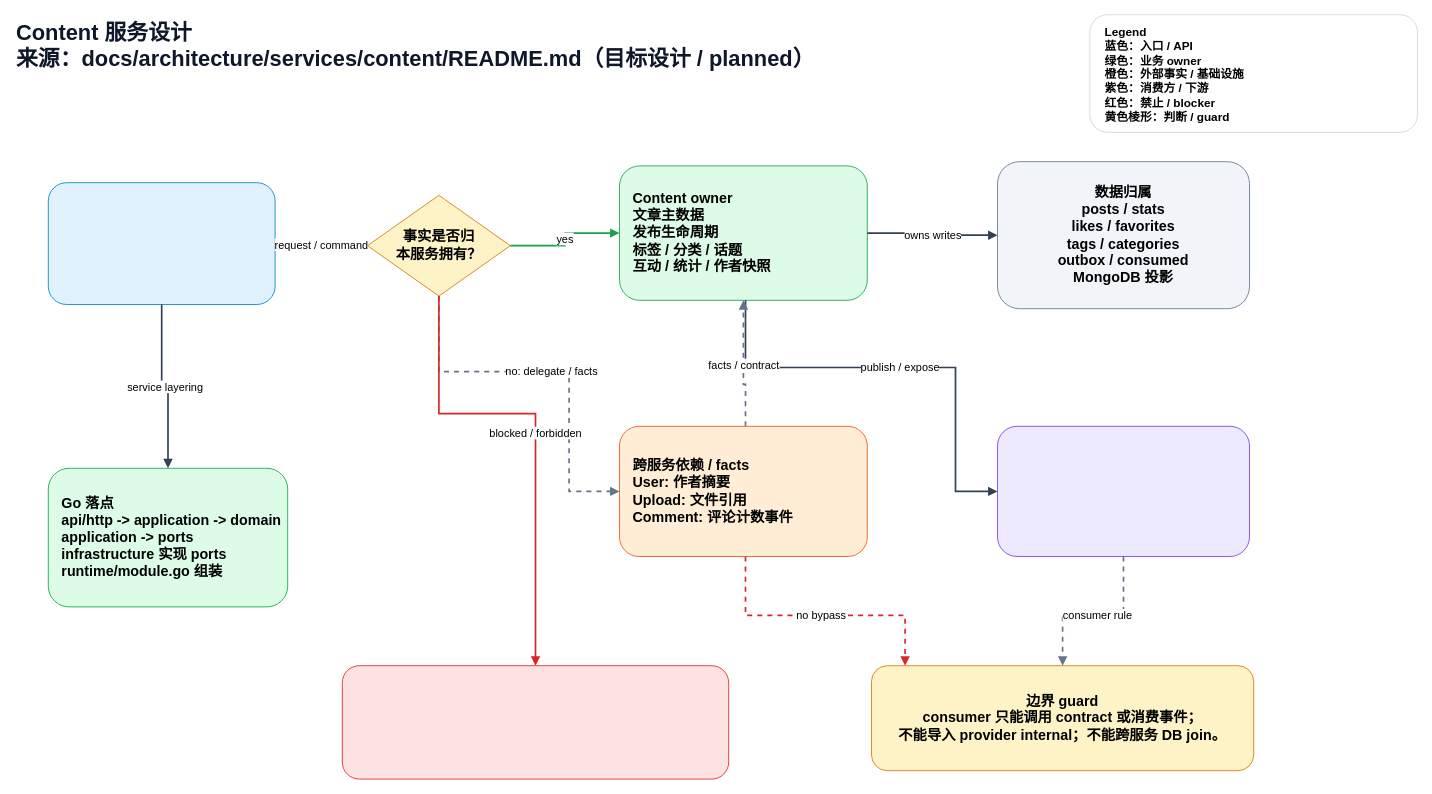
This 1432x794 diagram has some shape labels left out. Here are the shapes that lost their labels. From the top down, the centre of each, then its label:
At (x=161, y=243): "HTTP / 外部入口 posts like / favorite content / draft / tags admin posts / outbox".
At (x=1123, y=490): "Contract / Event content.post.* liked / favorited / viewed 消费 profile.updated".
At (x=535, y=722): "迁移风险 / 禁止路径 outbox 同事务 Redis 事务后更新 Presence 不影响主链路 PostStats 独立聚合".
